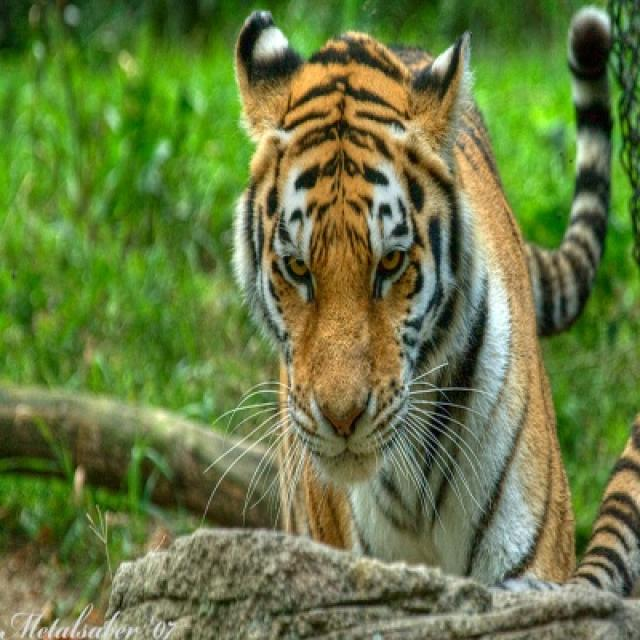Tiger: (226, 3, 614, 573)
